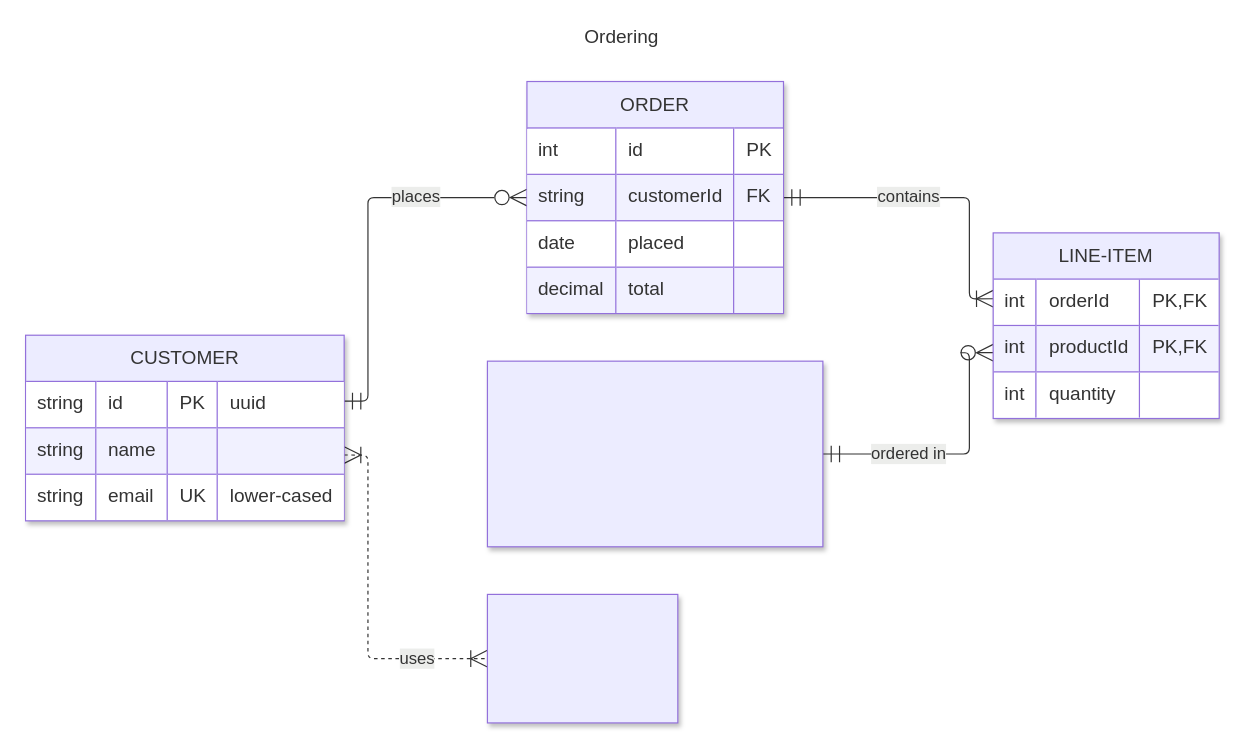
Some shapes in this 1247 by 753 pixel diagram are drawn without their labels. The shapes that lost their labels are listed below. From the top down, each one's centre as x and y in pixels, then its label:
At [655,455]: "PRODUCT int id PK string sku UK string title shown in search".
At [583,659]: "DELIVERY-ADDRESS".
